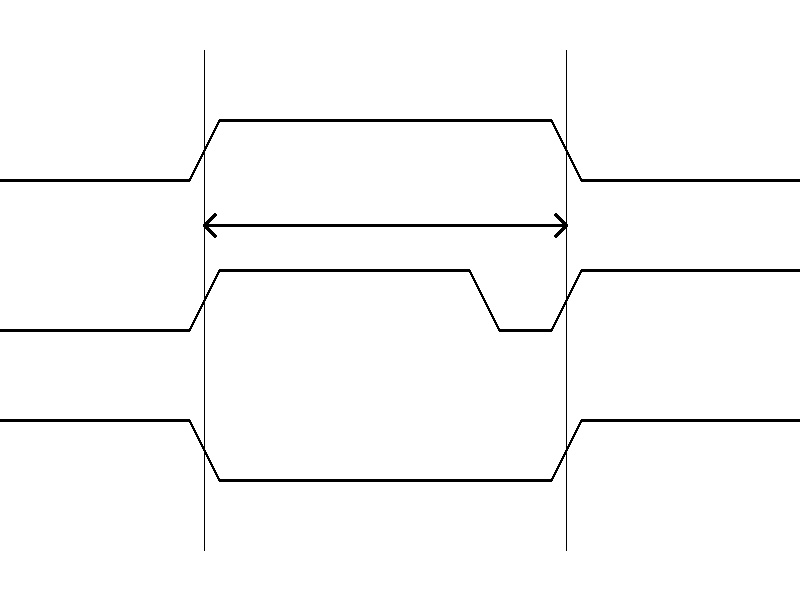double_arrow: (204, 210, 566, 240)
